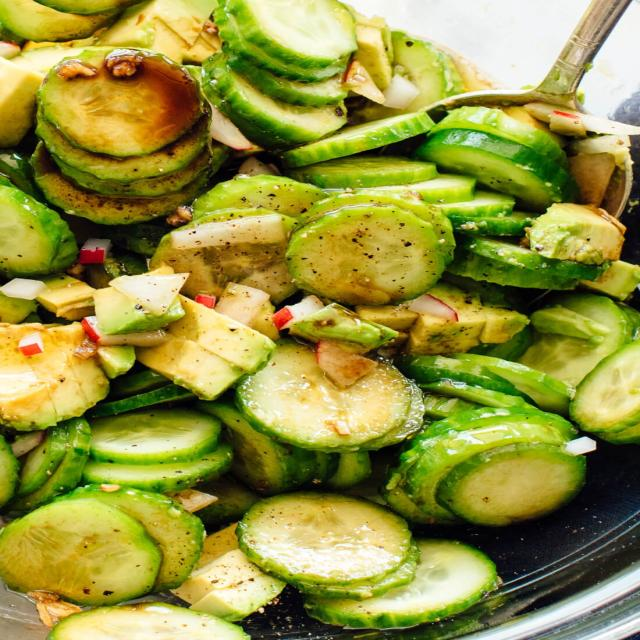Pickle: (0, 484, 204, 606), (382, 408, 584, 526), (152, 176, 326, 304), (234, 340, 423, 452), (236, 491, 419, 599), (37, 46, 202, 158), (305, 539, 498, 629), (414, 106, 579, 211), (0, 499, 161, 606), (285, 204, 444, 305), (202, 52, 346, 150), (414, 129, 579, 212), (436, 442, 586, 526), (0, 322, 109, 431), (223, 0, 356, 69), (281, 111, 434, 168), (172, 549, 285, 621), (7, 418, 92, 511), (47, 602, 249, 640), (451, 354, 575, 415), (0, 185, 79, 279), (569, 340, 640, 444), (90, 409, 221, 465), (52, 150, 210, 196), (225, 50, 348, 107), (395, 355, 532, 403), (448, 248, 579, 290), (285, 155, 438, 189), (369, 174, 476, 204), (449, 211, 537, 236), (107, 370, 172, 400), (163, 489, 217, 512), (343, 92, 371, 126), (393, 65, 408, 76)
